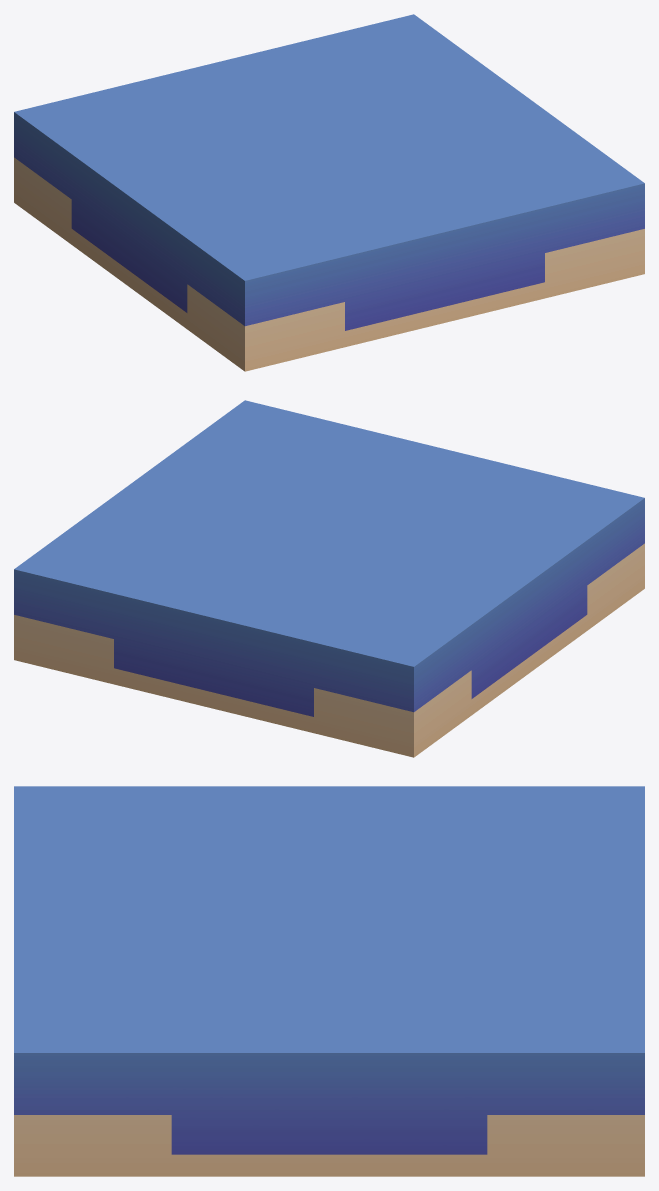
File: tower-square-mid-color.glb
3 views of the same model, one above another, from view 1: azimuth 30°, elevation 25°; view 2: azimuth 150°, elevation 25°; view 3: azimuth 270°, elevation 25° (orthographic). The views are drawn at different scales.
Visible parts, largest first — view 1: tower-square-mid-color; view 2: tower-square-mid-color; view 3: tower-square-mid-color.
Part boxes in pixels (x1=…): tower-square-mid-color: x1=14, y1=14, x2=644, y2=371; tower-square-mid-color: x1=14, y1=400, x2=644, y2=757; tower-square-mid-color: x1=14, y1=786, x2=644, y2=1176.
Bounding box in the file's own units: 0.93 × 0.2016 × 0.93.
1 material, 1 textured.
